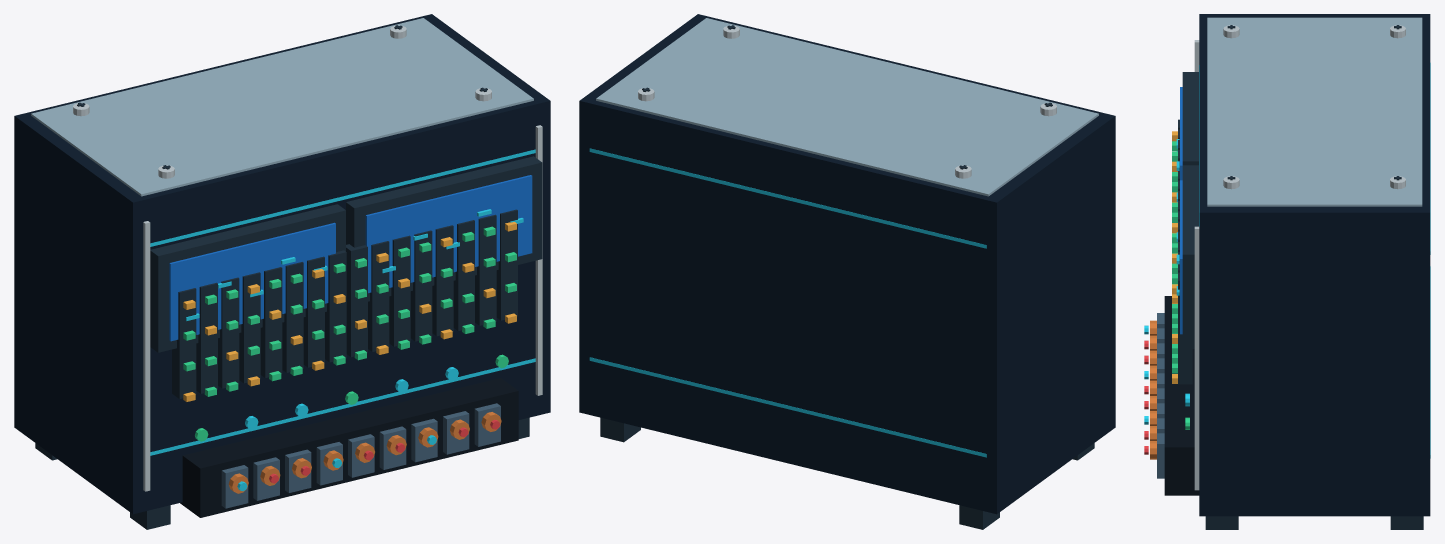
Rendered from 53_L75_IonImplantationPLCRack.fbx.
The picture shows the model from 3 angles, left to right: view 1: azimuth 30°, elevation 25°; view 2: azimuth 150°, elevation 25°; view 3: azimuth 270°, elevation 25°; orthographic projection. The views are drawn at different scales.
Visible parts, largest first — view 1: IonImplantationPLCRack; view 2: IonImplantationPLCRack; view 3: IonImplantationPLCRack.
Part boxes in pixels (x1,y1,x2,y2): IonImplantationPLCRack: [14, 14, 550, 529]; IonImplantationPLCRack: [579, 14, 1115, 529]; IonImplantationPLCRack: [1144, 14, 1430, 529].
Bounding box in the file's own units: 185 × 146 × 113.
